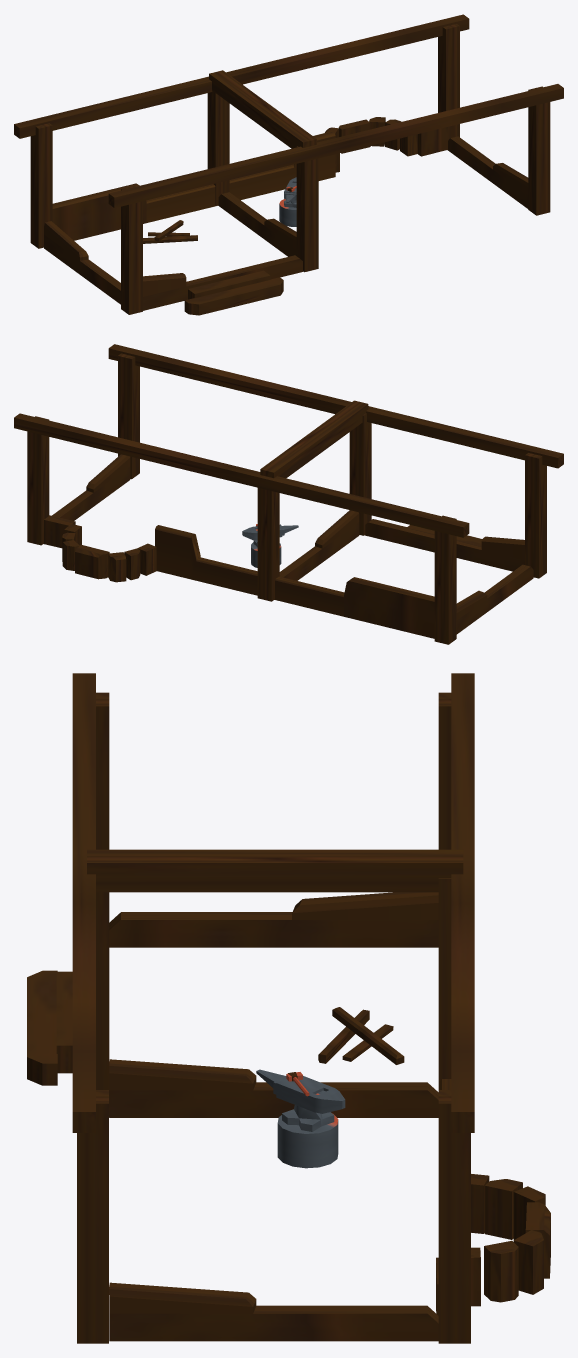
Rendered from BSLevel2.fbx.
3 views of the same model, one above another, from view 1: azimuth 30°, elevation 25°; view 2: azimuth 150°, elevation 25°; view 3: azimuth 270°, elevation 25° (orthographic). The views are drawn at different scales.
Parts seen in each view (by area): view 1: BSLevel2; view 2: BSLevel2; view 3: BSLevel2.
Part boxes in pixels (x1,y1,x2,y2): BSLevel2: [14, 14, 563, 315]; BSLevel2: [14, 344, 563, 644]; BSLevel2: [27, 673, 550, 1343].
Size of the model in its own units: 33.81 by 9.56 by 17.06.
